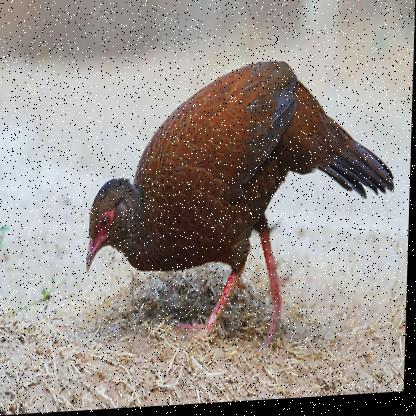Burung: (84, 57, 401, 361)
